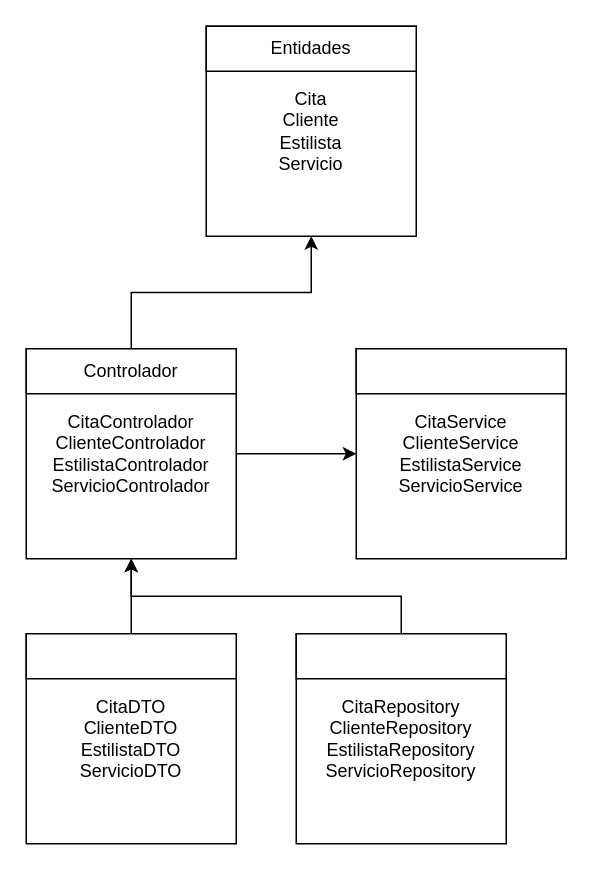
The diagram is 593 pixels wide and 870 high, and some of its shapes have lost their labels. The box of each missing label's shape, as (x1, y1, x2, y2) in pixels:
DTO: (25, 632, 236, 679)
Repositorios: (295, 632, 506, 679)
Services: (355, 347, 566, 394)
